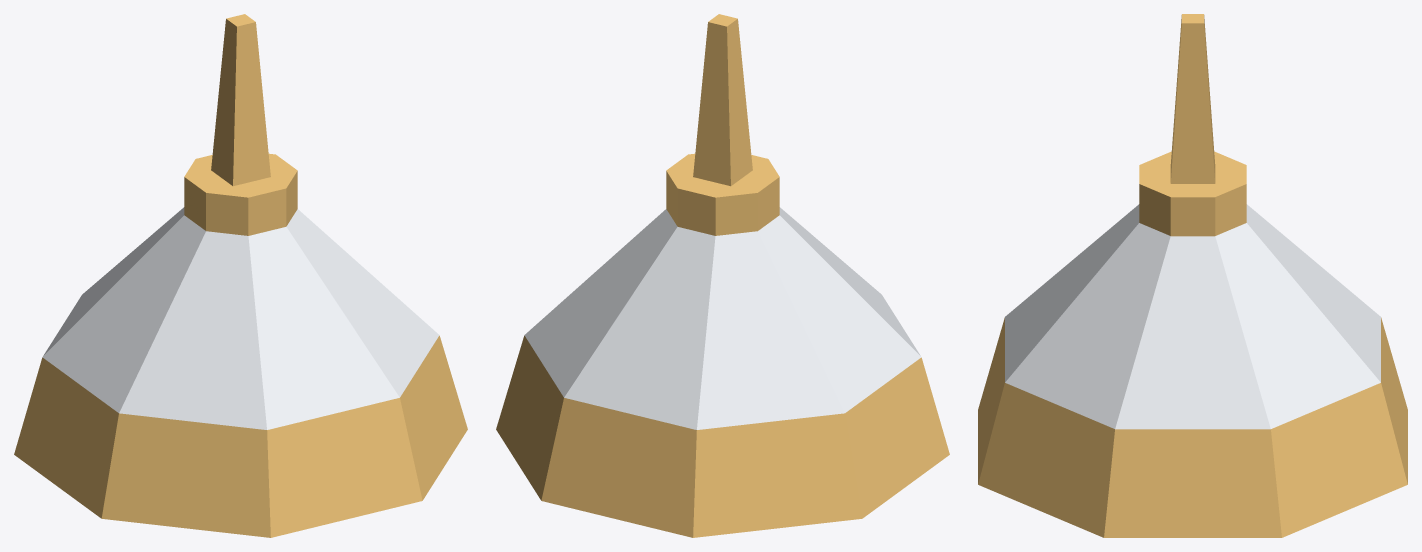
Rendered from rocket_topB.glb.
3 views of the same model, side by side, from view 1: azimuth 30°, elevation 25°; view 2: azimuth 150°, elevation 25°; view 3: azimuth 270°, elevation 25° (orthographic).
Visible parts, largest first — view 1: rocket_topB; view 2: rocket_topB; view 3: rocket_topB.
Part boxes in pixels (box(x1,y1,x2,y2)): rocket_topB: box(14, 14, 467, 537); rocket_topB: box(496, 14, 949, 537); rocket_topB: box(978, 14, 1407, 537).
Size of the model in its own units: 1 by 1.1 by 1.
